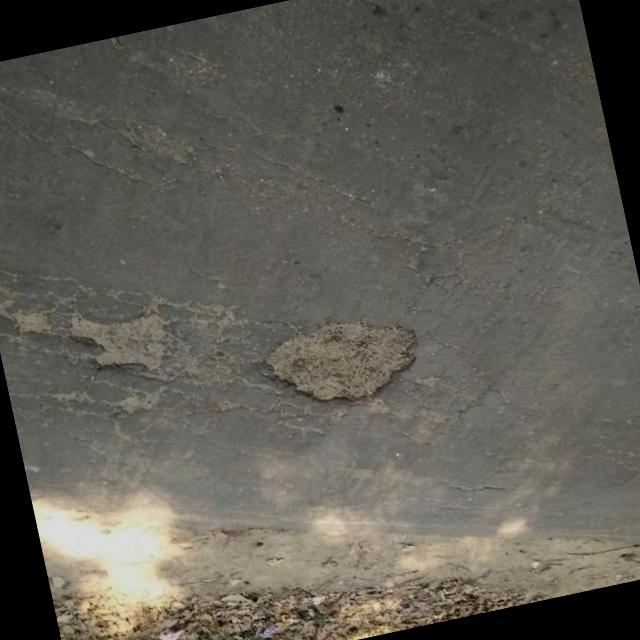pothole: (258, 303, 431, 423), (66, 291, 182, 390)
